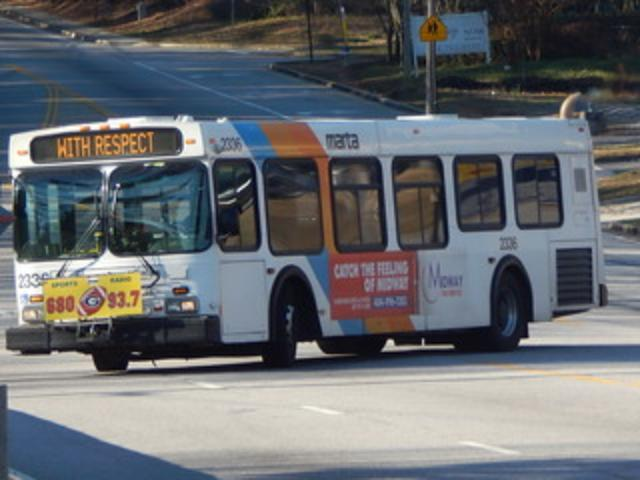bus: (8, 114, 606, 372)
